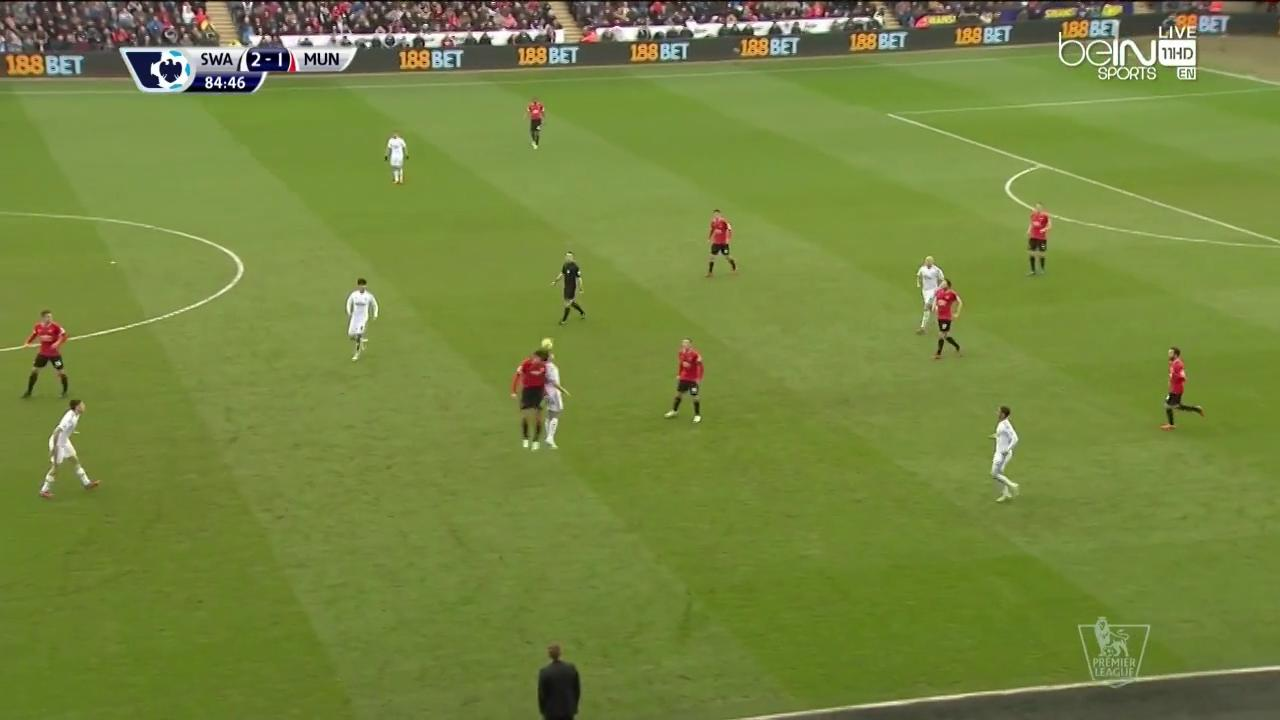football: (540, 338, 554, 349)
